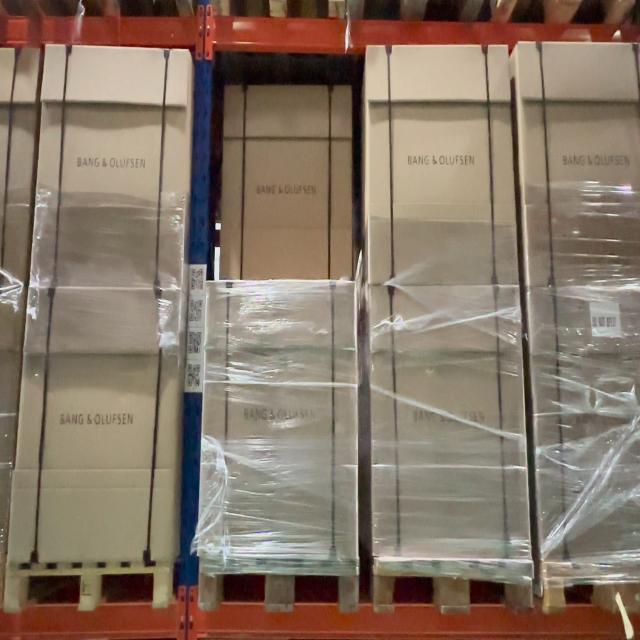box: (208, 284, 356, 552), (370, 292, 519, 547), (30, 295, 170, 554), (368, 45, 509, 282), (47, 48, 184, 285), (225, 82, 353, 277)
